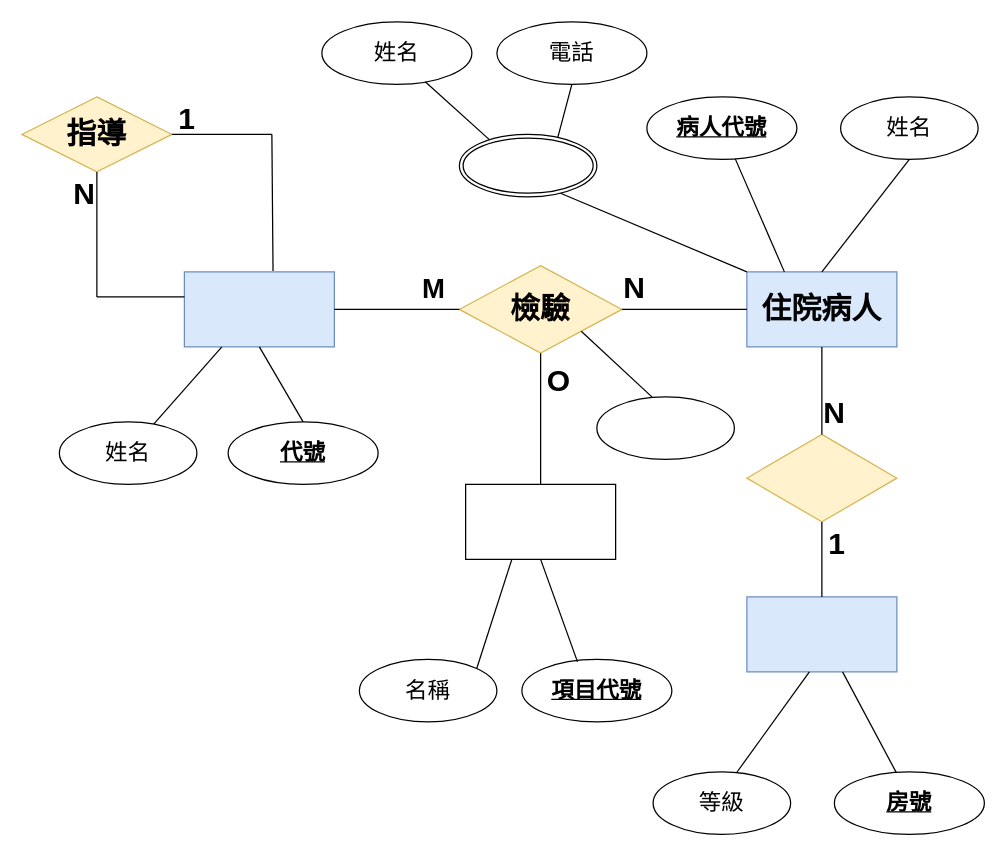
Image size: 1006x856. Some labels were removed from this diagram. The shapes that lost their labels are listed below. From the top down, each one's centre as x and y in pixels, then its label:
point (527, 165): 緊急連絡人
point (258, 309): 醫師
point (665, 427): 診療日期
point (821, 477): 容納
point (540, 521): 檢驗項目
point (821, 634): 病房
